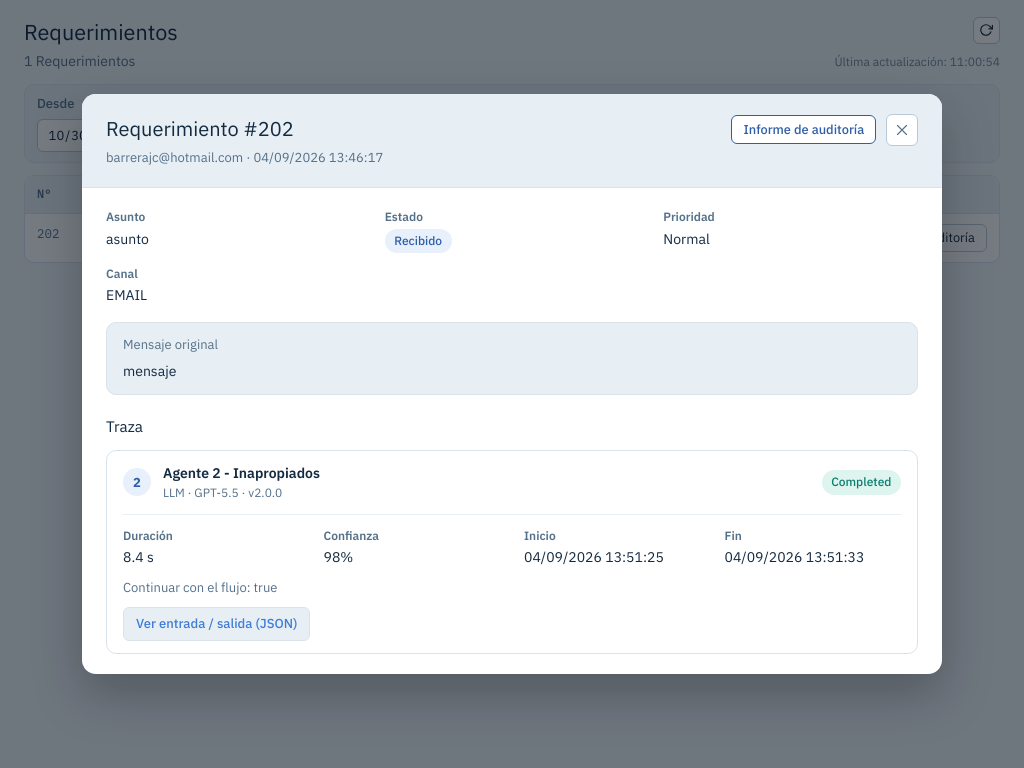
Test case: ServiceRequestComponent › should show "Sin datos" in the inline panel for a missing side
What coordinates should you click on to do the following:
click the button with class "json-toggle-btn"
I would click on:
 (217, 624)
Its box is x1=123 y1=607 x2=310 y2=641.
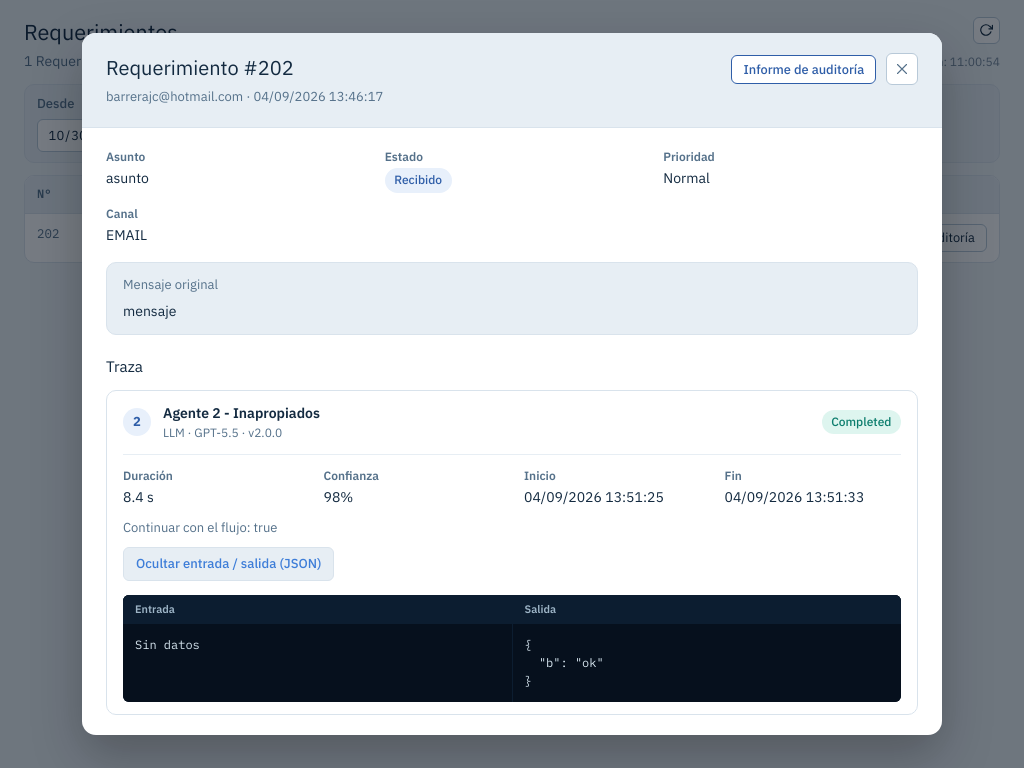
Now the text "Sin datos" is shown, box x1=135 y1=637 x2=200 y2=652
Now the text "{ \"b\": \"ok\" }" shows "\"b\": \"ok\"", box x1=524 y1=637 x2=604 y2=688
